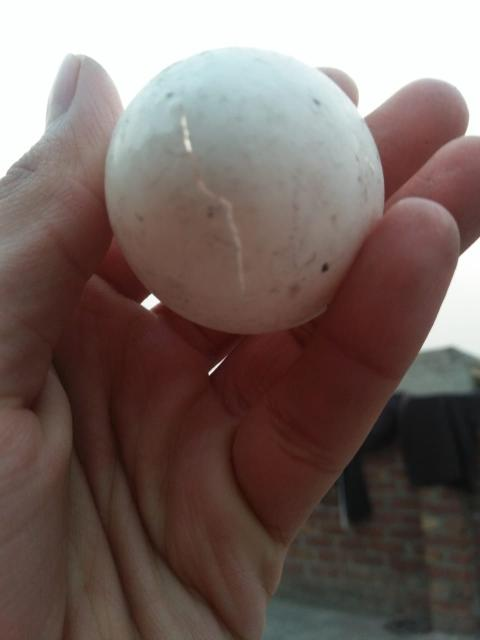Roto: (102, 44, 386, 336)
